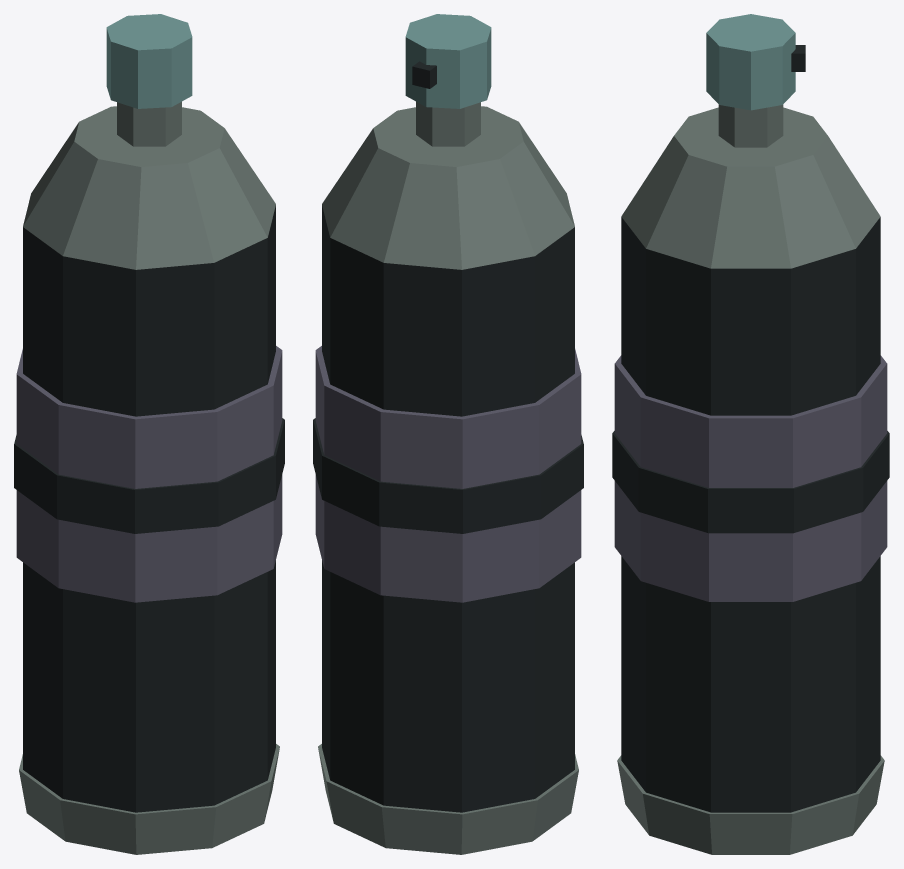
The model's file is spray_mana.glb.
The picture shows the model from 3 angles, left to right: view 1: azimuth 30°, elevation 25°; view 2: azimuth 150°, elevation 25°; view 3: azimuth 270°, elevation 25°; orthographic projection.
Visible parts, largest first — view 1: Spray1; view 2: Spray1; view 3: Spray1.
Part boxes in pixels (bbox=[...]): Spray1: bbox=[14, 14, 284, 854]; Spray1: bbox=[313, 14, 583, 854]; Spray1: bbox=[612, 14, 889, 854].
Size of the model in its own units: 0.0651 by 0.21 by 0.0684.
